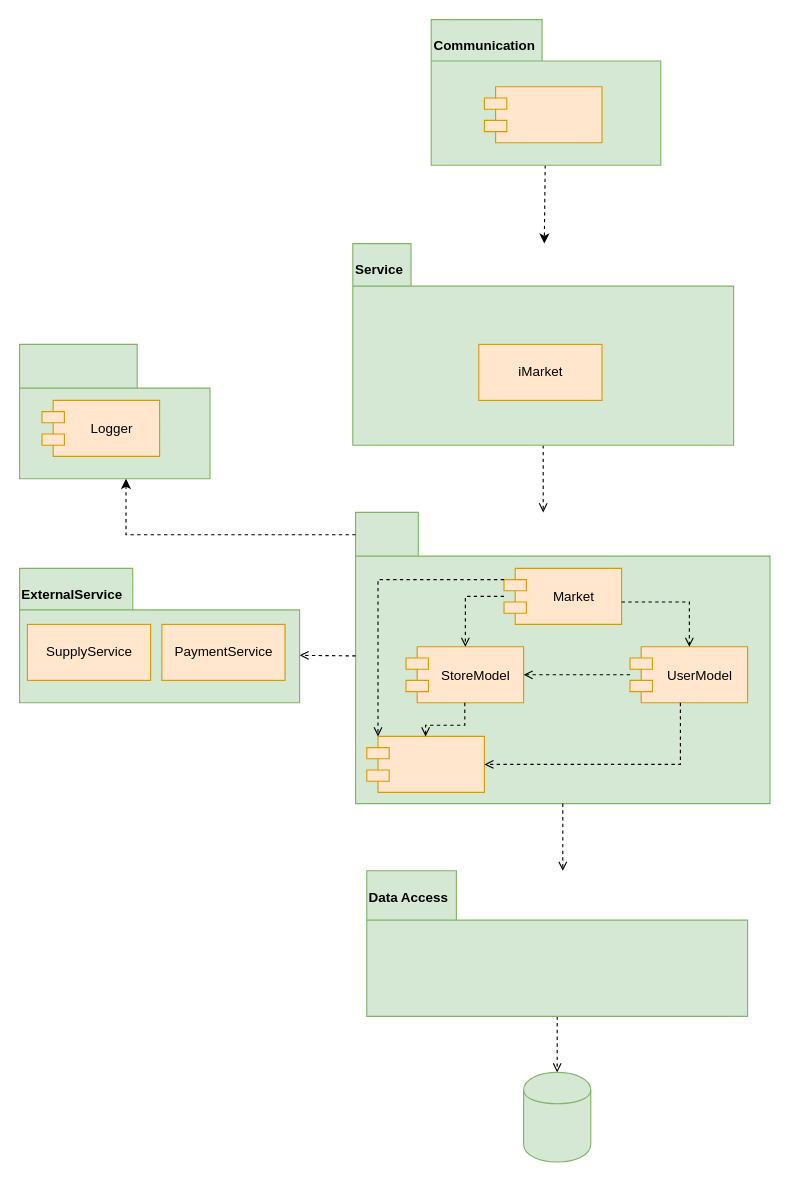
The diagram is 790 pixels wide and 1182 high, and some of its shapes have lost their labels. Here are the shapes that lost their labels. From the top down, the box of each, then its label:
(483, 86, 602, 143): GUI
(18, 343, 210, 479): ExternalLibraries
(354, 511, 770, 804): Domain
(366, 735, 484, 792): Response
(522, 1071, 591, 1162): Database
